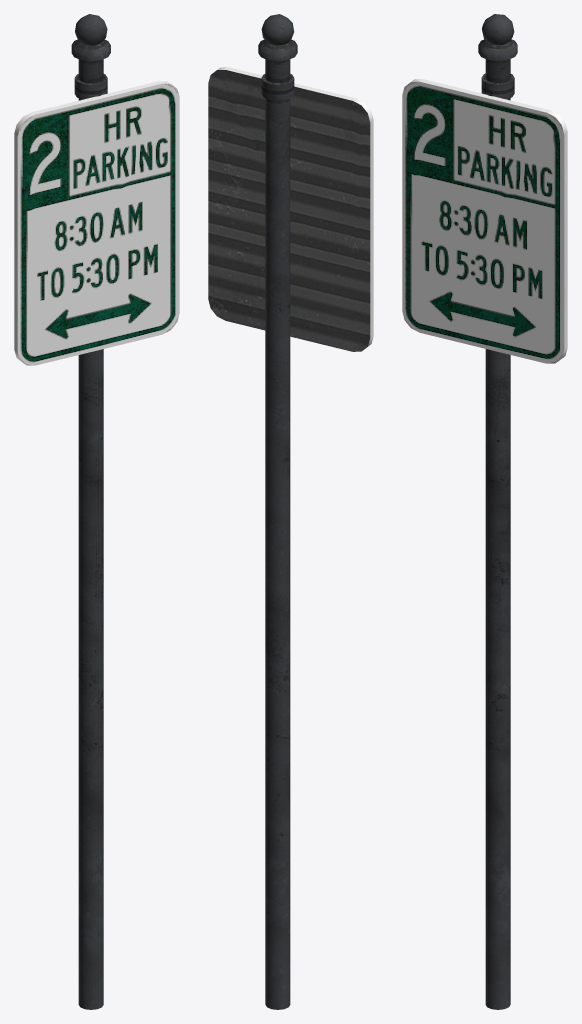
The model's file is Road_Sign_05.fbx.
3 renders of one model, left to right at view 1: azimuth 30°, elevation 25°; view 2: azimuth 150°, elevation 25°; view 3: azimuth 330°, elevation 25°, orthographic.
Visible parts, largest first — view 1: Road_Sign_05_LOD0; view 2: Road_Sign_05_LOD0; view 3: Road_Sign_05_LOD0.
Part boxes in pixels (x1=…): Road_Sign_05_LOD0: x1=14, y1=14, x2=179, y2=1009; Road_Sign_05_LOD0: x1=208, y1=14, x2=373, y2=1009; Road_Sign_05_LOD0: x1=402, y1=14, x2=567, y2=1009.
Size of what is drawn, in the model's own units: 37.21 by 217 by 8.36.
